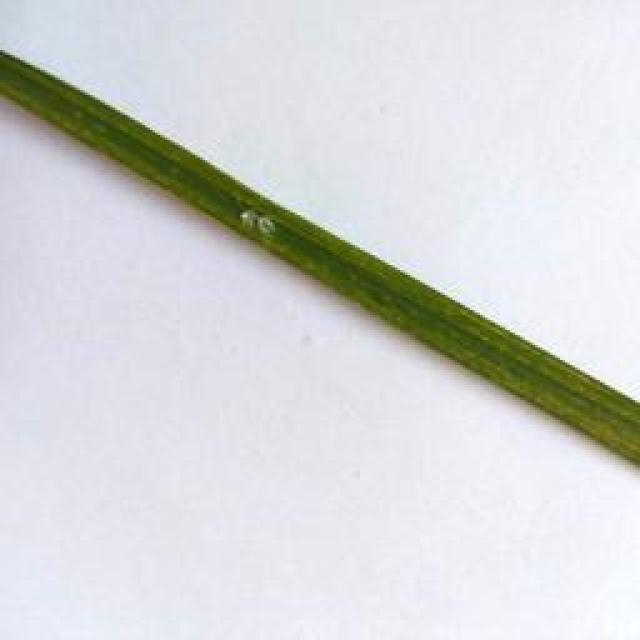Rice_Blast: (233, 199, 278, 242)
